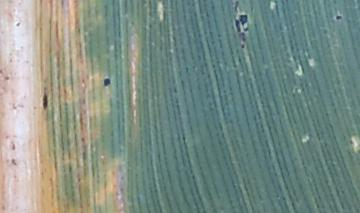tarspot: (238, 12, 249, 32), (41, 85, 49, 110), (233, 17, 242, 35), (101, 76, 112, 88), (9, 140, 17, 153), (10, 156, 18, 167), (232, 1, 239, 13), (334, 14, 343, 22), (240, 32, 246, 43), (79, 135, 86, 144), (14, 20, 21, 28), (3, 75, 11, 82), (239, 42, 245, 50), (348, 138, 353, 147), (60, 1, 65, 10), (1, 67, 4, 77)
